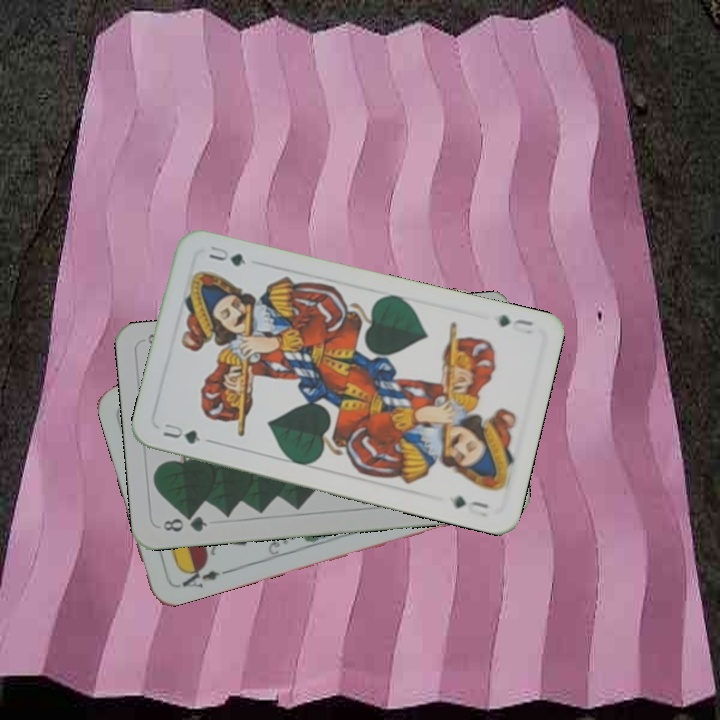EA: (178, 560, 222, 591)
G8: (159, 511, 210, 535)
GU: (159, 419, 203, 447), (494, 311, 536, 337)
